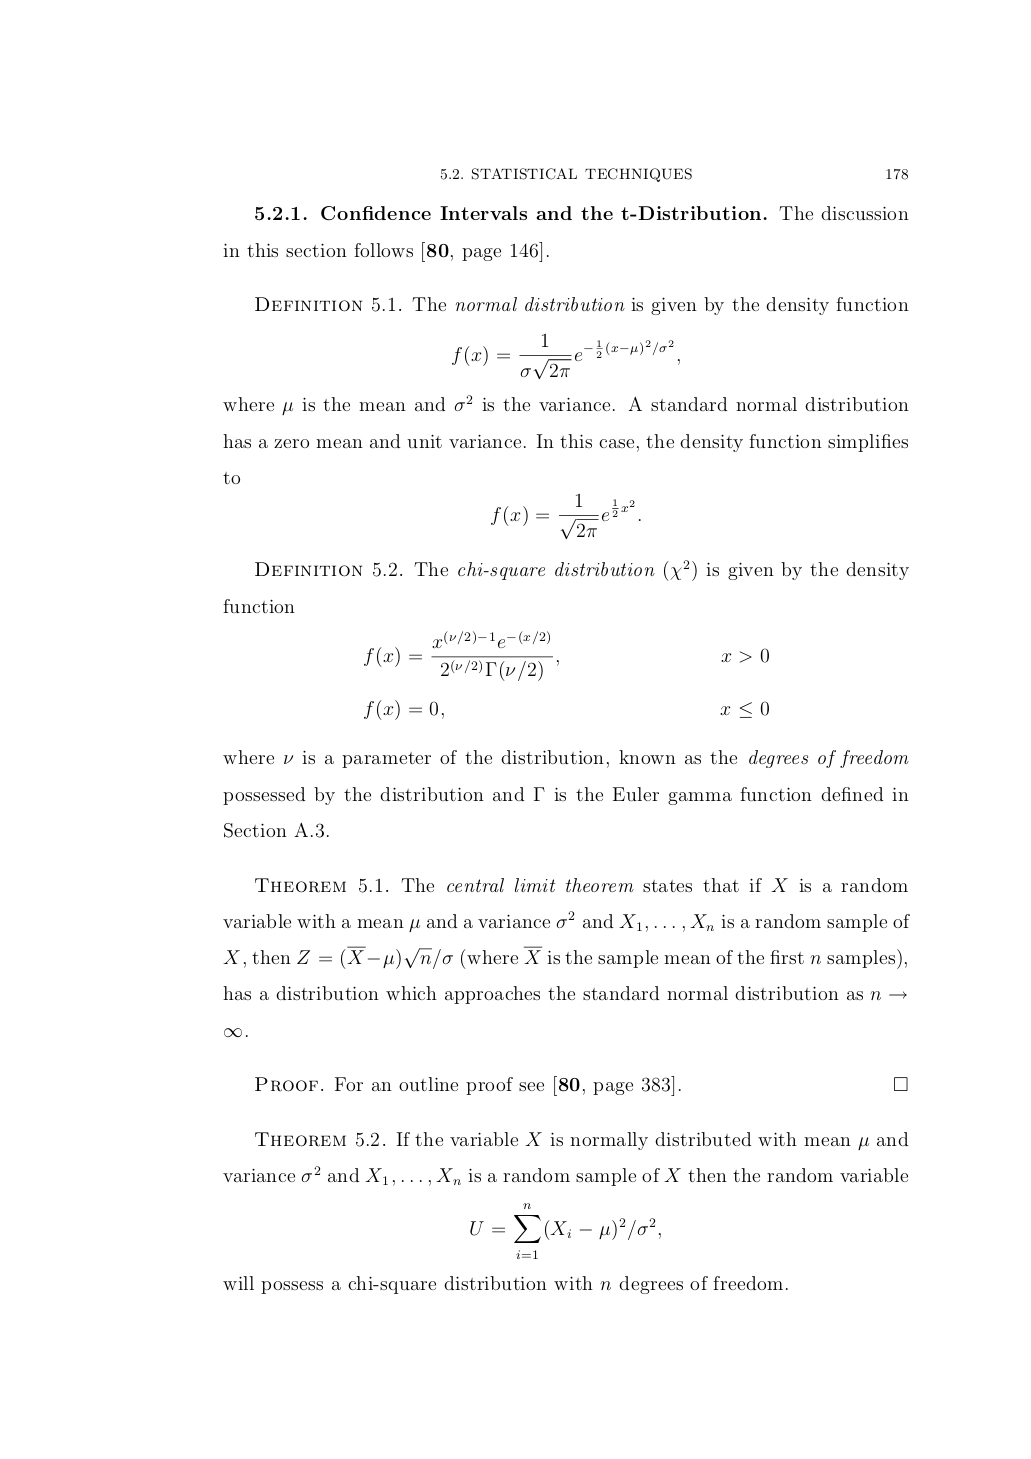formula: (364, 630, 768, 682), (452, 332, 680, 380), (470, 1202, 661, 1258), (364, 699, 768, 719), (491, 492, 640, 540)
